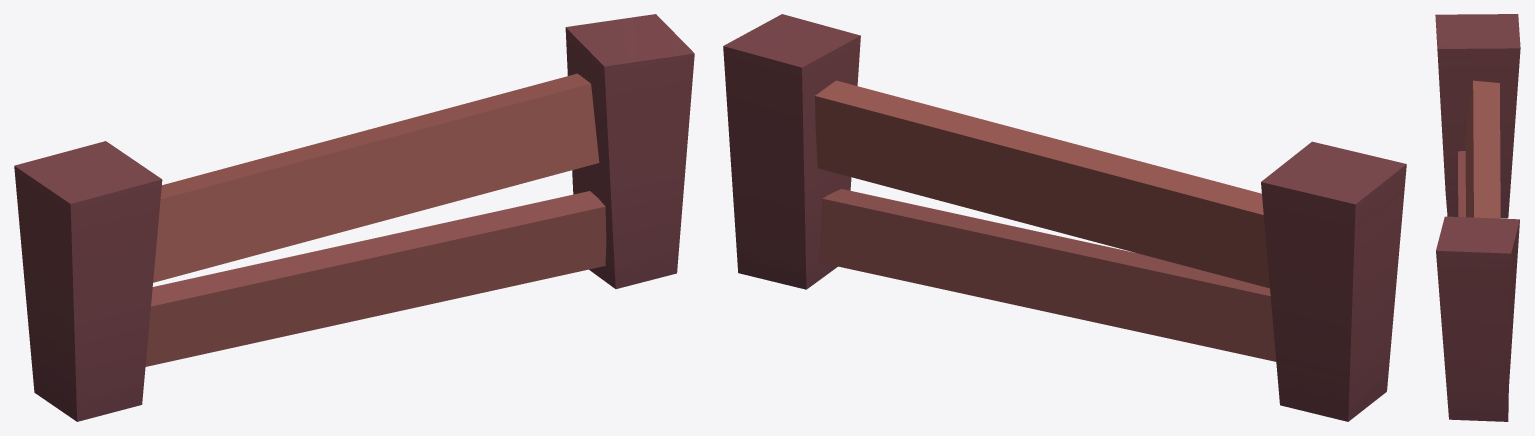
The model's file is Fence1.obj.
The picture shows the model from 3 angles, left to right: view 1: azimuth 30°, elevation 25°; view 2: azimuth 150°, elevation 25°; view 3: azimuth 270°, elevation 25°; orthographic projection. The views are drawn at different scales.
Visible parts, largest first — view 1: {mesh}Fence1_Cube.001; view 2: {mesh}Fence1_Cube.001; view 3: {mesh}Fence1_Cube.001.
Boxes of the visible parts, box(x1,y1,x2,y2) form: {mesh}Fence1_Cube.001: box(14, 14, 694, 421); {mesh}Fence1_Cube.001: box(723, 14, 1406, 421); {mesh}Fence1_Cube.001: box(1435, 14, 1520, 421).
Bounding box in the file's own units: 104 × 35.62 × 15.64.
1 material, 1 textured.
